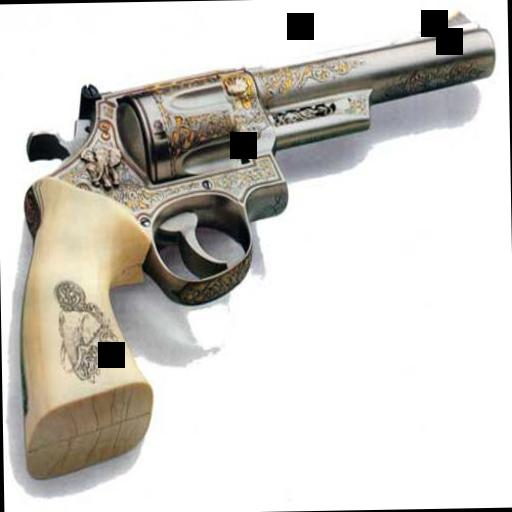Handgun: (10, 7, 502, 477)
